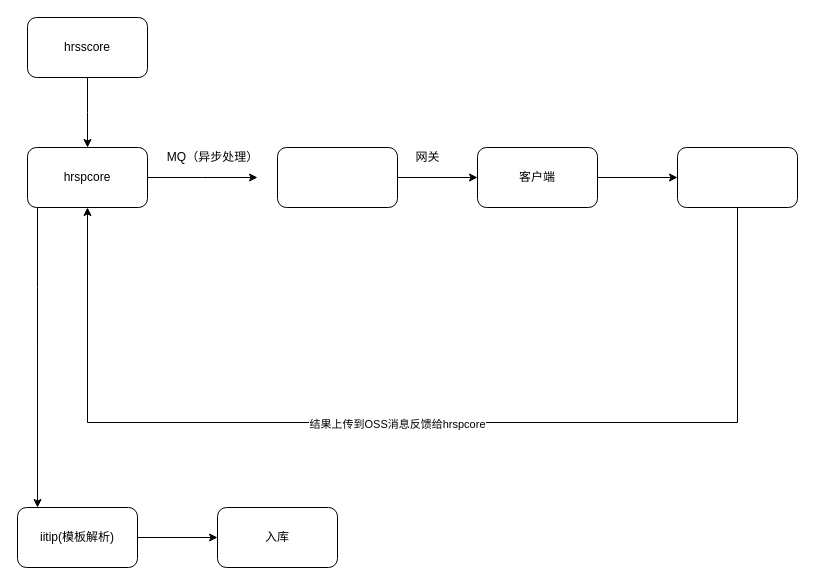
This 815x585 diagram has some shape labels left out. Here are the shapes that lost their labels. From the top down, the centre of each, then its label:
At point 337,177: "hrspgatway".
At point 737,177: "网厅".
